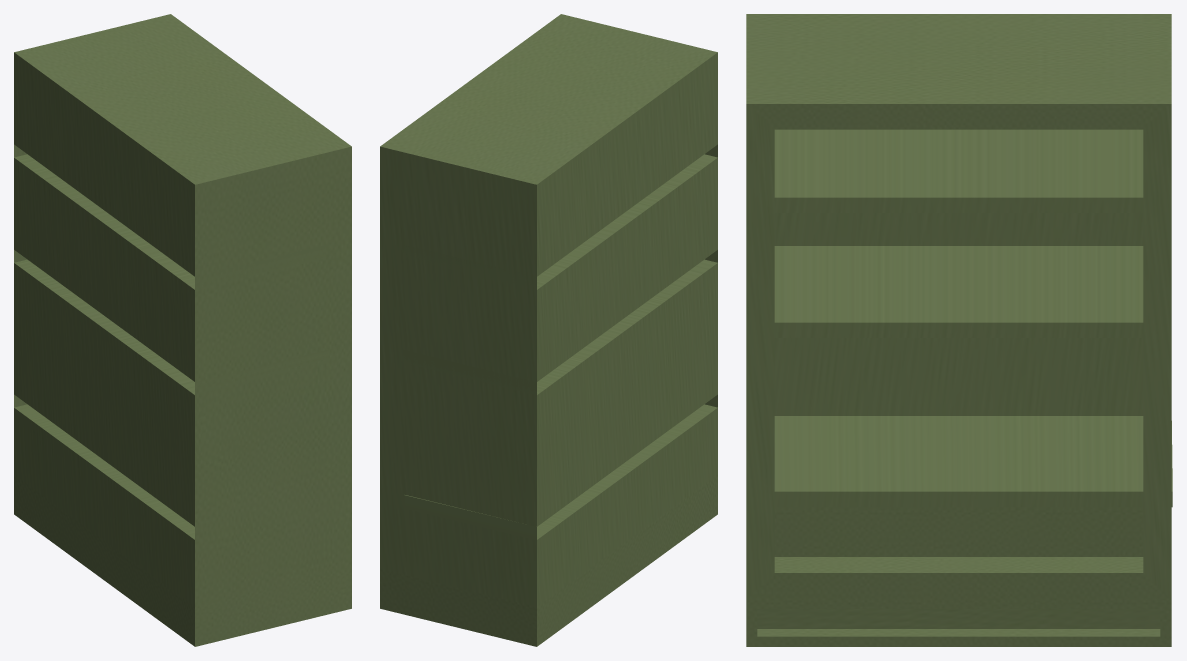
File: cabinetv2.glb
3 views of the same model, side by side, from view 1: azimuth 30°, elevation 25°; view 2: azimuth 150°, elevation 25°; view 3: azimuth 270°, elevation 25° (orthographic). The views are drawn at different scales.
Visible parts, largest first — view 1: Cube; view 2: Cube; view 3: Cube.
Boxes of the visible parts, box(x1,y1,x2,y2) form: Cube: box(14, 14, 351, 646); Cube: box(380, 14, 717, 646); Cube: box(746, 14, 1172, 646).
Size of the model in its own units: 1 by 2.82 by 2.
1 material, 1 textured.
